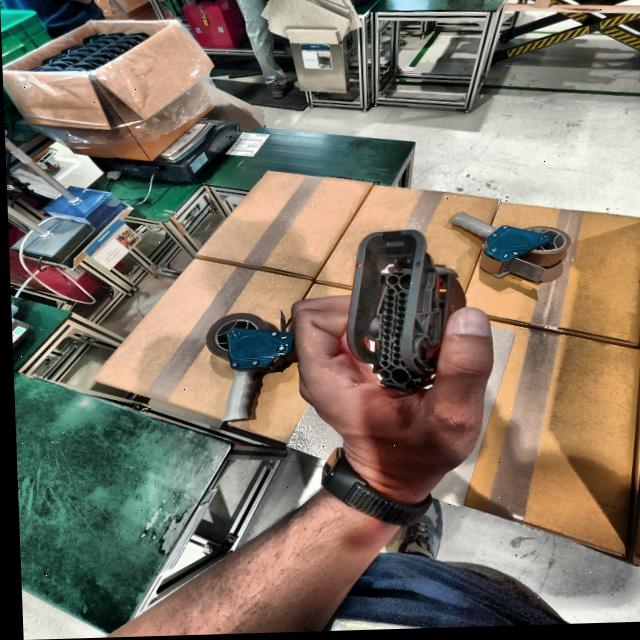P38: (344, 232, 463, 397)
